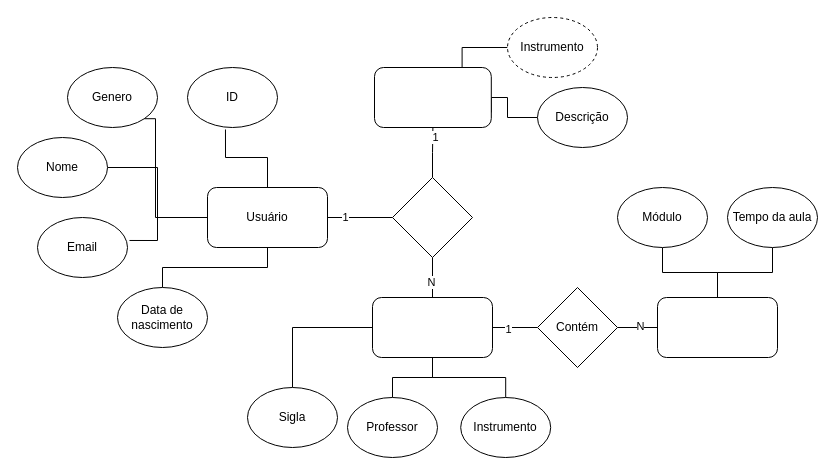
The diagram is 835 pixels wide and 475 high, and some of its shapes have lost their labels. Here are the shapes that lost their labels. From the top down, the box of each, then its label:
(374, 66, 491, 128): Perfil
(392, 176, 472, 258): Acessa
(372, 296, 492, 358): Módulos
(656, 296, 778, 358): Aulas
